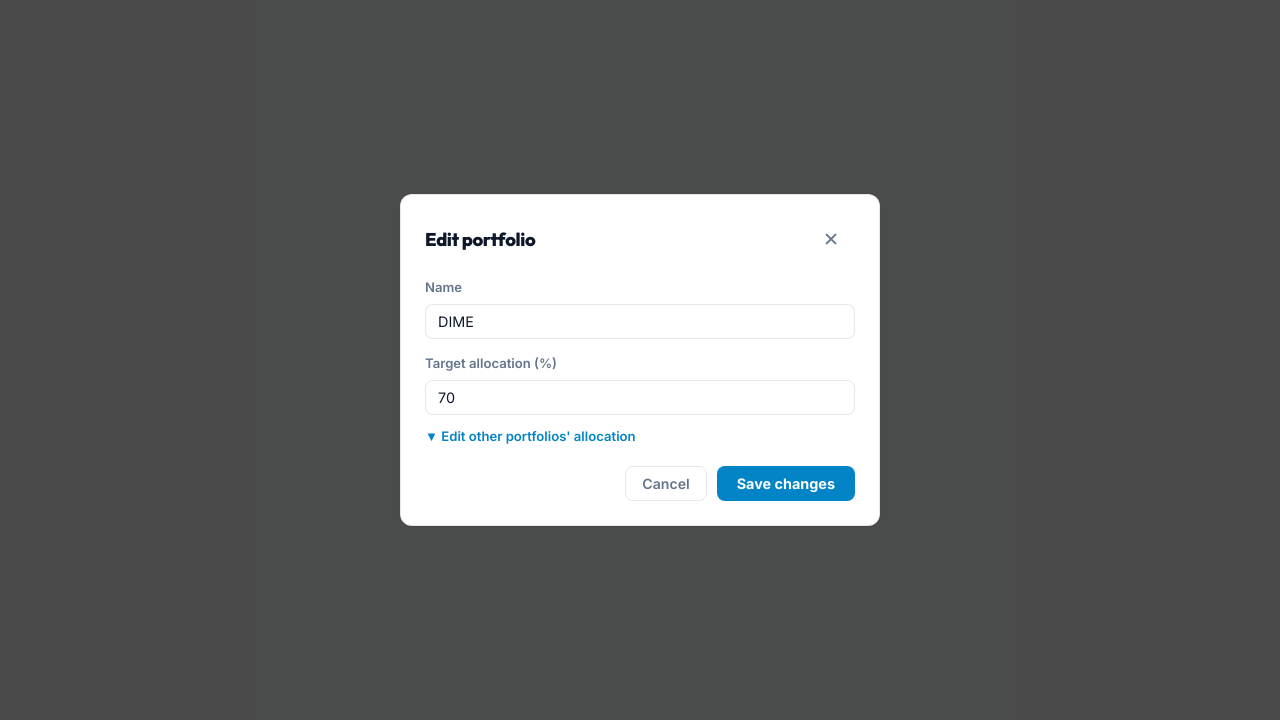
Test: EditPortfolioModal › expanding the rebalance section shows every other portfolio with a running total
Click the button "▼ Edit other portfolios' allocation" at (530, 436), box [425, 428, 636, 444]
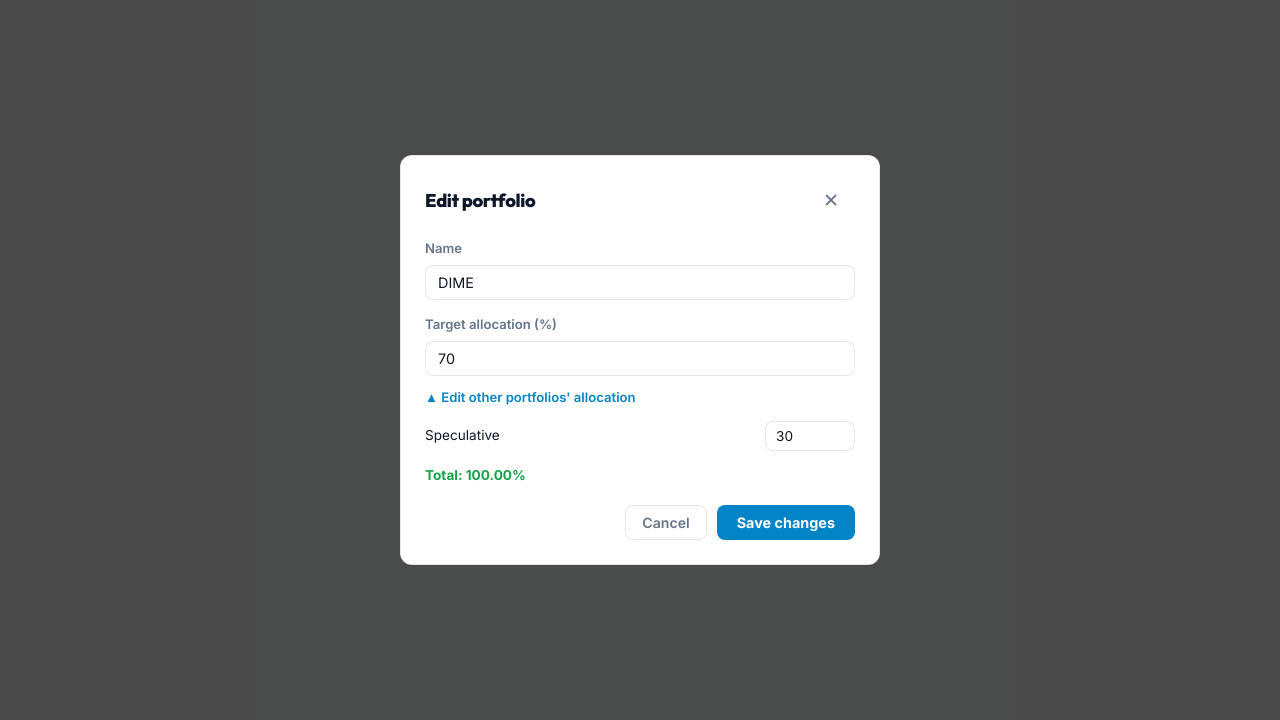
expect the number field labelled "Speculative" holds "30": met, box [765, 421, 855, 451]
expect the message reads "Total: 100.00%": met, box [425, 467, 526, 483]
